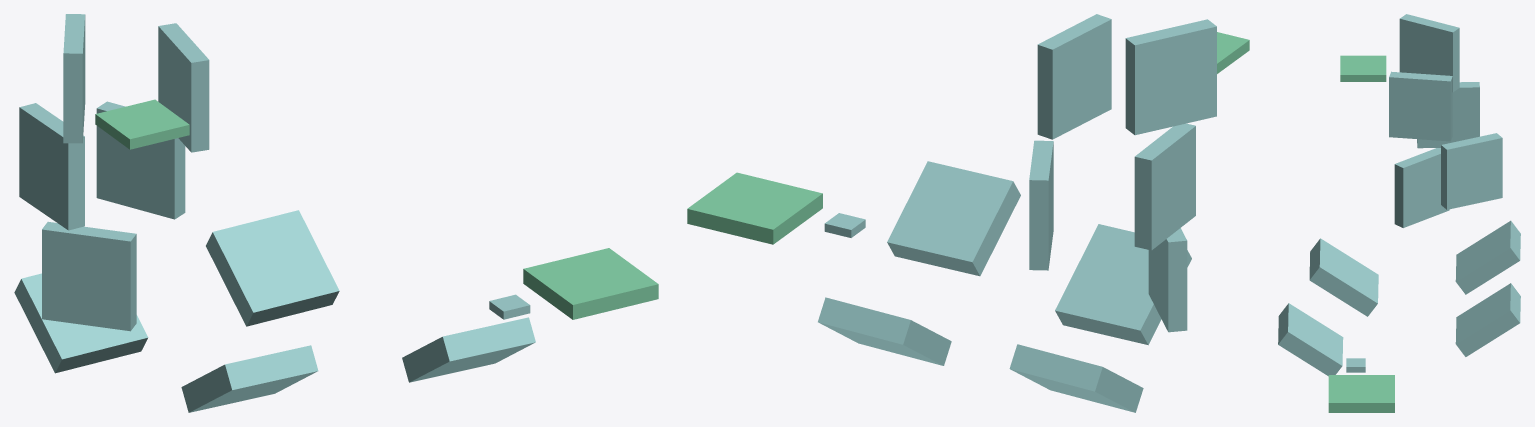
Rendered from scene_jump3.dae.
3 views of the same model, side by side, from view 1: azimuth 30°, elevation 25°; view 2: azimuth 150°, elevation 25°; view 3: azimuth 270°, elevation 25° (orthographic). The views are drawn at different scales.
Parts seen in each view (by area): view 1: Cube_002, Cube_005, Cube_006, Cube_004, Cube_003, Cube_008, Cube_007, Cube_001, Cube, Cube_010, Cube_009, Cube_011; view 2: Cube, Cube_009, Cube_001, Cube_007, Cube_006, Cube_003, Cube_008, Cube_002, Cube_005, Cube_004, Cube_010, Cube_011; view 3: Cube_007, Cube_004, Cube_009, Cube_001, Cube_005, Cube, Cube_008, Cube_002, Cube_003, Cube_006, Cube_010, Cube_011.
Part boxes in pixels (box(x1,y1,x2,y2)): Cube_002: box(206, 210, 339, 326); Cube_005: box(42, 221, 136, 331); Cube_006: box(19, 103, 84, 230); Cube_004: box(96, 101, 185, 219); Cube_003: box(523, 248, 658, 319); Cube_008: box(14, 273, 148, 373); Cube_007: box(158, 23, 209, 152); Cube_001: box(181, 345, 318, 412); Cube: box(402, 317, 535, 382); Cube_010: box(95, 99, 189, 149); Cube_009: box(63, 14, 85, 143); Cube_011: box(489, 294, 530, 319); Cube: box(887, 161, 1020, 276); Cube_009: box(1125, 19, 1216, 135); Cube_001: box(1055, 224, 1191, 345); Cube_007: box(1037, 14, 1111, 139); Cube_006: box(1134, 123, 1195, 250); Cube_003: box(687, 172, 822, 244); Cube_008: box(1009, 344, 1143, 412); Cube_002: box(818, 297, 951, 365); Cube_005: box(1148, 228, 1187, 332); Cube_004: box(1029, 140, 1053, 270); Cube_010: box(1217, 32, 1249, 73); Cube_011: box(824, 213, 865, 237); Cube_007: box(1389, 71, 1452, 141); Cube_004: box(1441, 133, 1502, 209); Cube_009: box(1399, 14, 1459, 92); Cube_001: box(1309, 238, 1378, 316); Cube_005: box(1394, 148, 1449, 227); Cube: box(1278, 303, 1343, 376); Cube_008: box(1455, 220, 1520, 294); Cube_002: box(1455, 283, 1520, 356); Cube_003: box(1328, 375, 1394, 412); Cube_006: box(1417, 82, 1479, 148); Cube_010: box(1340, 55, 1386, 81); Cube_011: box(1346, 358, 1365, 372).
Size of the model in its own units: 12.52 by 7.33 by 8.1.
